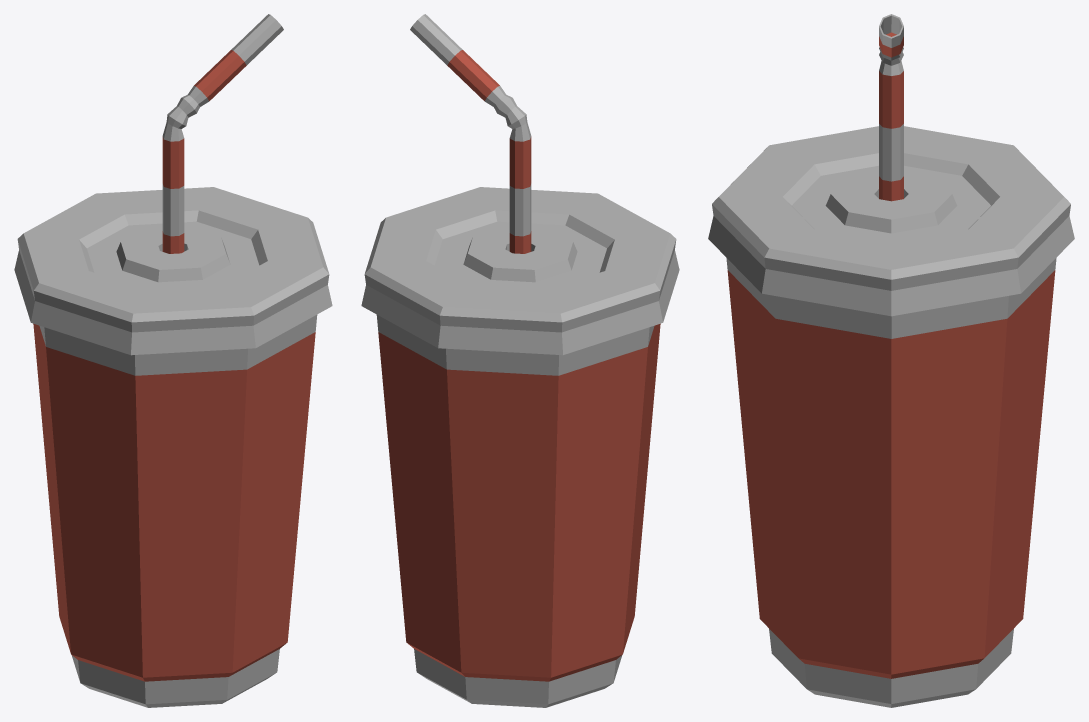
The model's file is soda.glb.
3 views of the same model, side by side, from view 1: azimuth 30°, elevation 25°; view 2: azimuth 150°, elevation 25°; view 3: azimuth 270°, elevation 25° (orthographic). The views are drawn at different scales.
Parts seen in each view (by area): view 1: Soda; view 2: Soda; view 3: Soda.
Boxes of the visible parts, left/top/right/bottom form: Soda: left=14, top=14, right=332, bottom=707; Soda: left=361, top=14, right=679, bottom=707; Soda: left=708, top=14, right=1074, bottom=707.
Size of the model in its own units: 0.9118 by 1.92 by 0.9118.
